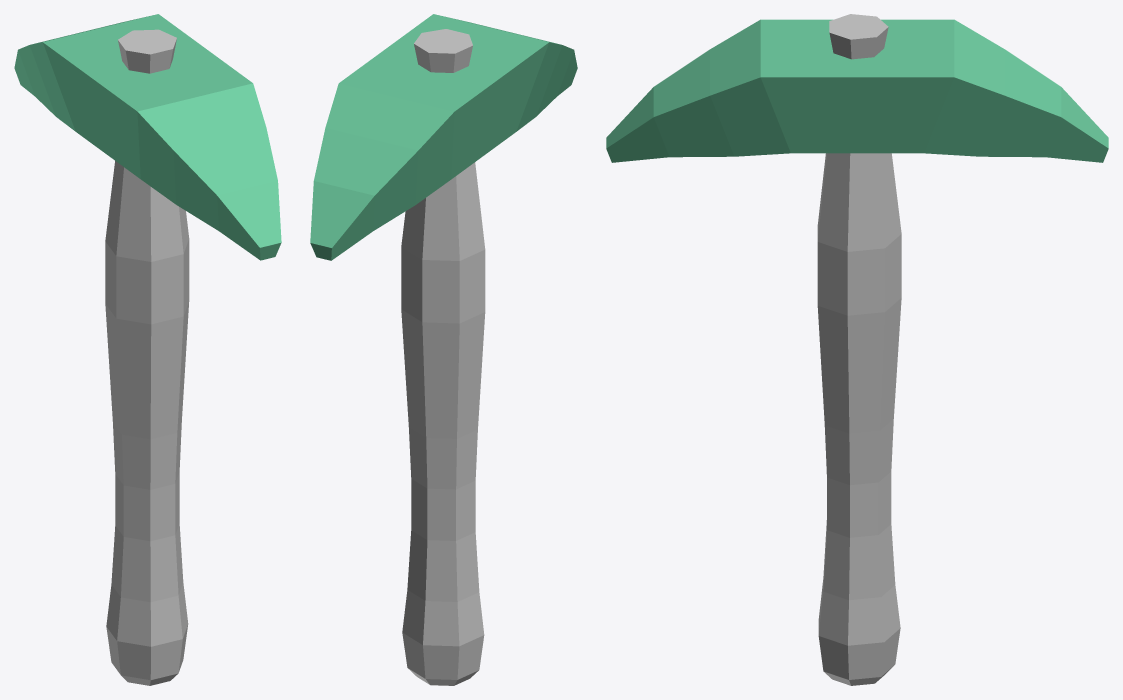
The model's file is Green Pickaxe.fbx.
3 views of the same model, side by side, from view 1: azimuth 30°, elevation 25°; view 2: azimuth 150°, elevation 25°; view 3: azimuth 270°, elevation 25° (orthographic). The views are drawn at different scales.
Parts seen in each view (by area): view 1: Handle, Cube; view 2: Handle, Cube; view 3: Cube, Handle.
Boxes of the visible parts, x1,y1,x2,y2 form: Handle: (105,29,189,685); Cube: (14,14,281,260); Handle: (401,29,485,685); Cube: (310,14,577,260); Cube: (606,19,1108,162); Handle: (817,14,901,685).
Size of the model in its own units: 144 by 751 by 528.
